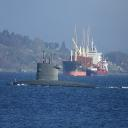submarine: (11, 50, 97, 86)
